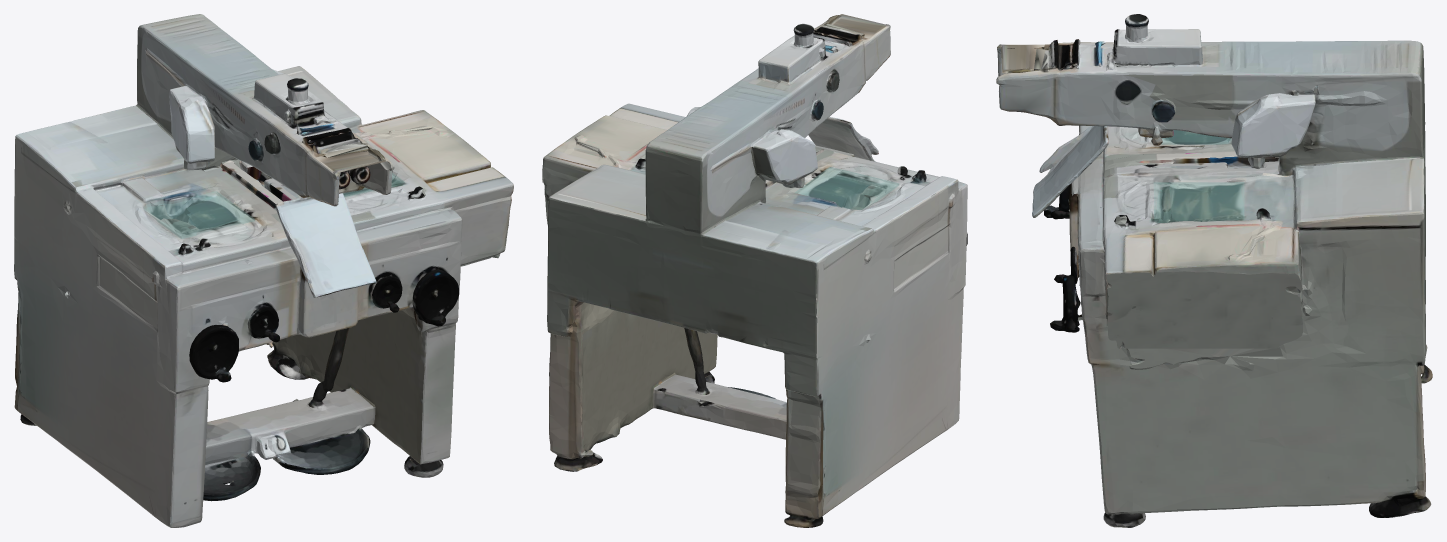
3 renders of one model, left to right at view 1: azimuth 30°, elevation 25°; view 2: azimuth 150°, elevation 25°; view 3: azimuth 270°, elevation 25°, orthographic. The views are drawn at different scales.
Parts seen in each view (by area): view 1: textured_mesh.obj, Cube.001; view 2: textured_mesh.obj, Cube.001; view 3: textured_mesh.obj, textured_mesh.obj.003, Cube, Cube.001.
Part boxes in pixels (box(x1,y1,x2,y2)): textured_mesh.obj: box(14, 14, 513, 527); Cube.001: box(144, 191, 254, 238); textured_mesh.obj: box(542, 14, 967, 527); Cube.001: box(795, 167, 898, 209); textured_mesh.obj: box(996, 14, 1432, 527); textured_mesh.obj.003: box(1231, 93, 1315, 169); Cube: box(1154, 182, 1244, 222); Cube.001: box(1161, 130, 1231, 144).
Size of the model in its own units: 1.69 by 1.88 by 1.69.
6 materials, 4 textured.
